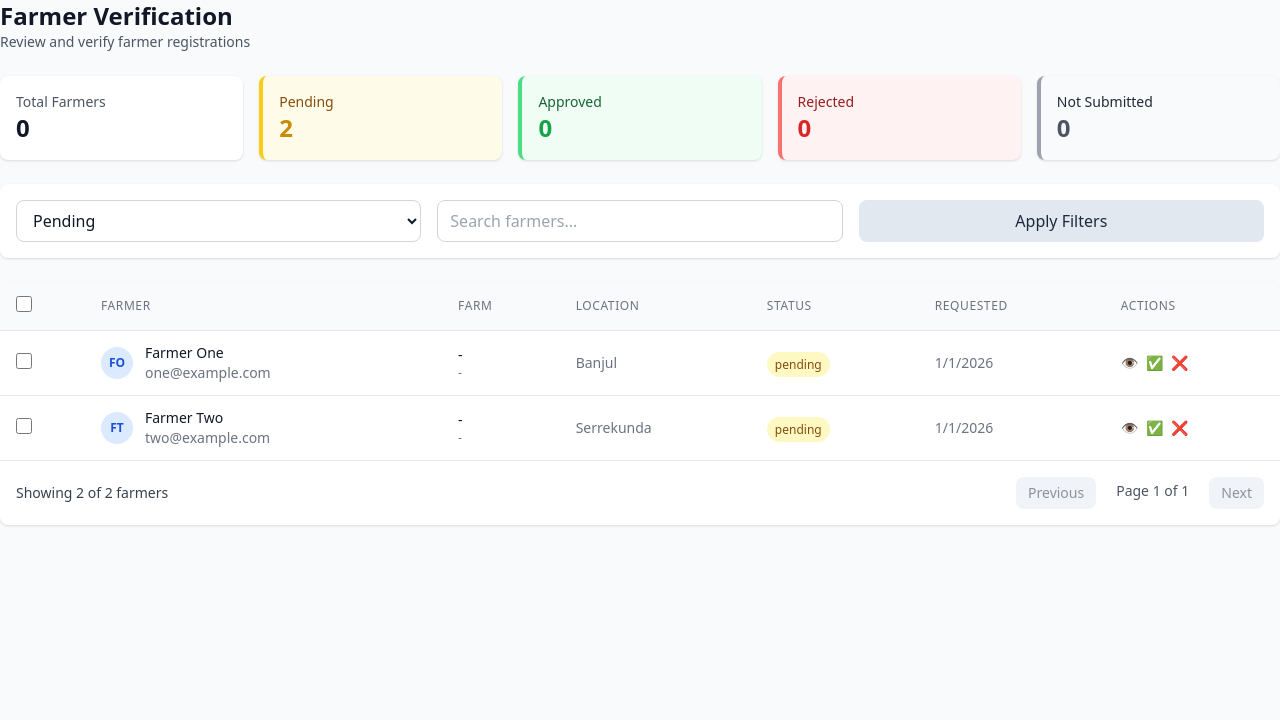
FarmerVerification bulk reject › reports partial failure instead of a false blanket success or a silent abort
Expected: the text "Farmer One" is shown, x1=145 y1=343 x2=224 y2=362
Click the checkbox next to "FO" at (24, 361), box x1=16 y1=353 x2=32 y2=369
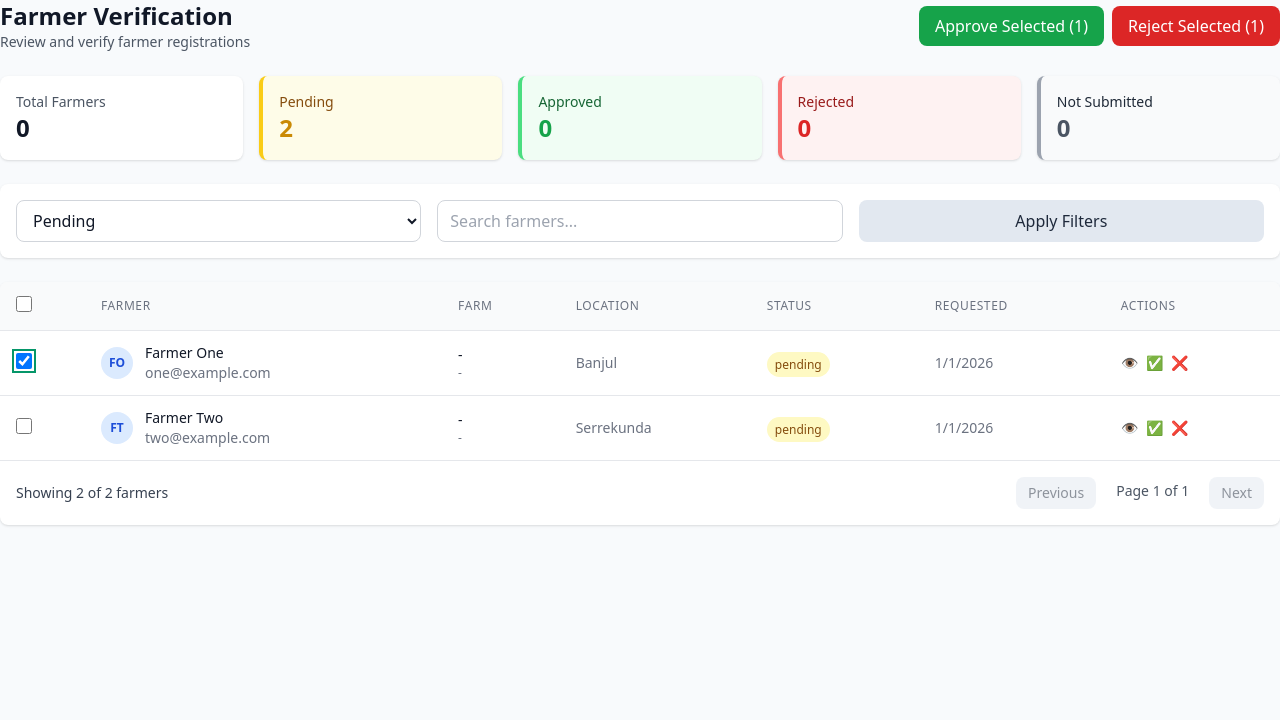
Click the checkbox next to "FT" at (24, 426), box x1=16 y1=418 x2=32 y2=434
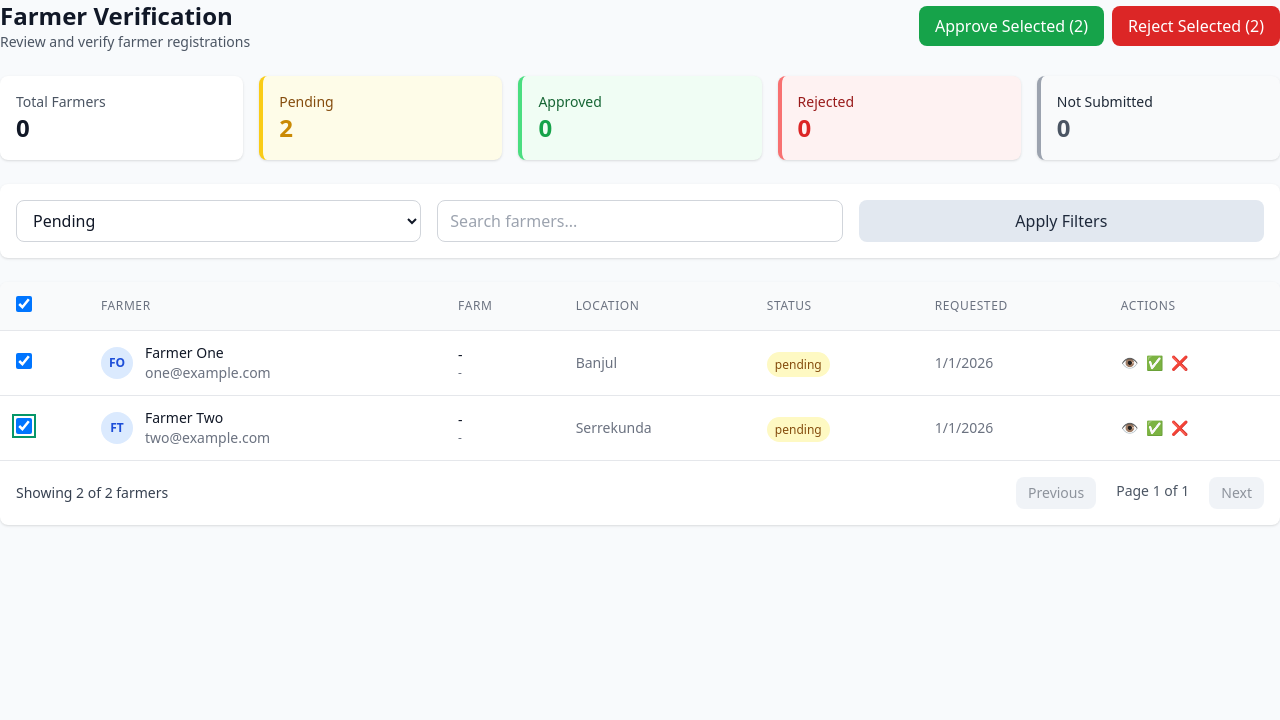
Click the button "Reject Selected (2)" at (1196, 26), box x1=1112 y1=6 x2=1279 y2=46
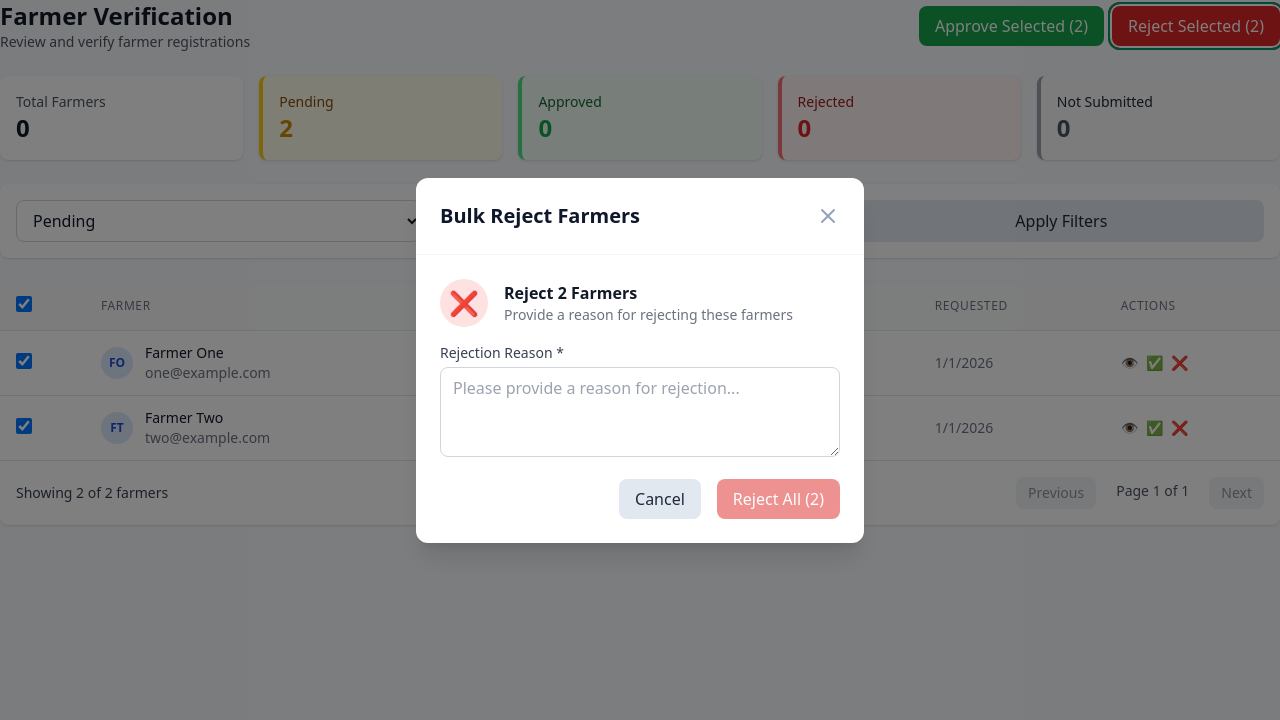
Type "Incomplete documents" into the text box with placeholder "Please provide a reason for rejection..." at (640, 412), box x1=440 y1=366 x2=840 y2=456
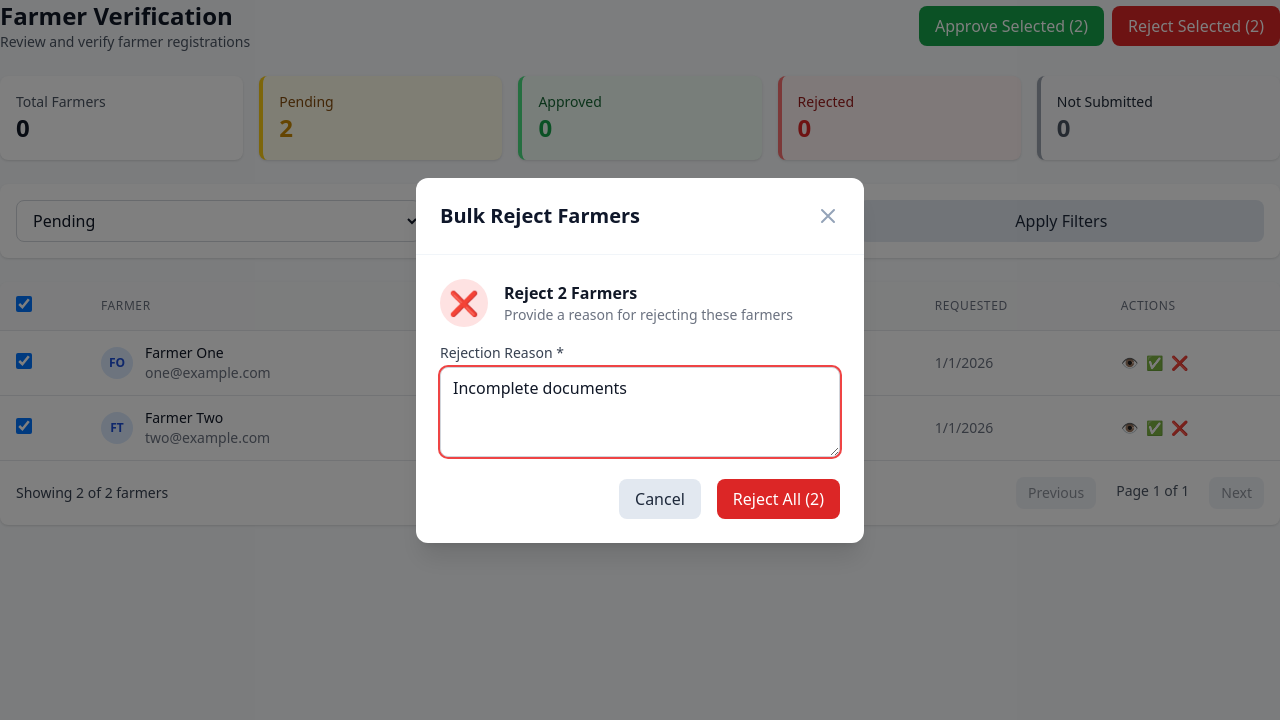
Click the button "Reject All (2)" at (778, 498), box x1=717 y1=478 x2=840 y2=518
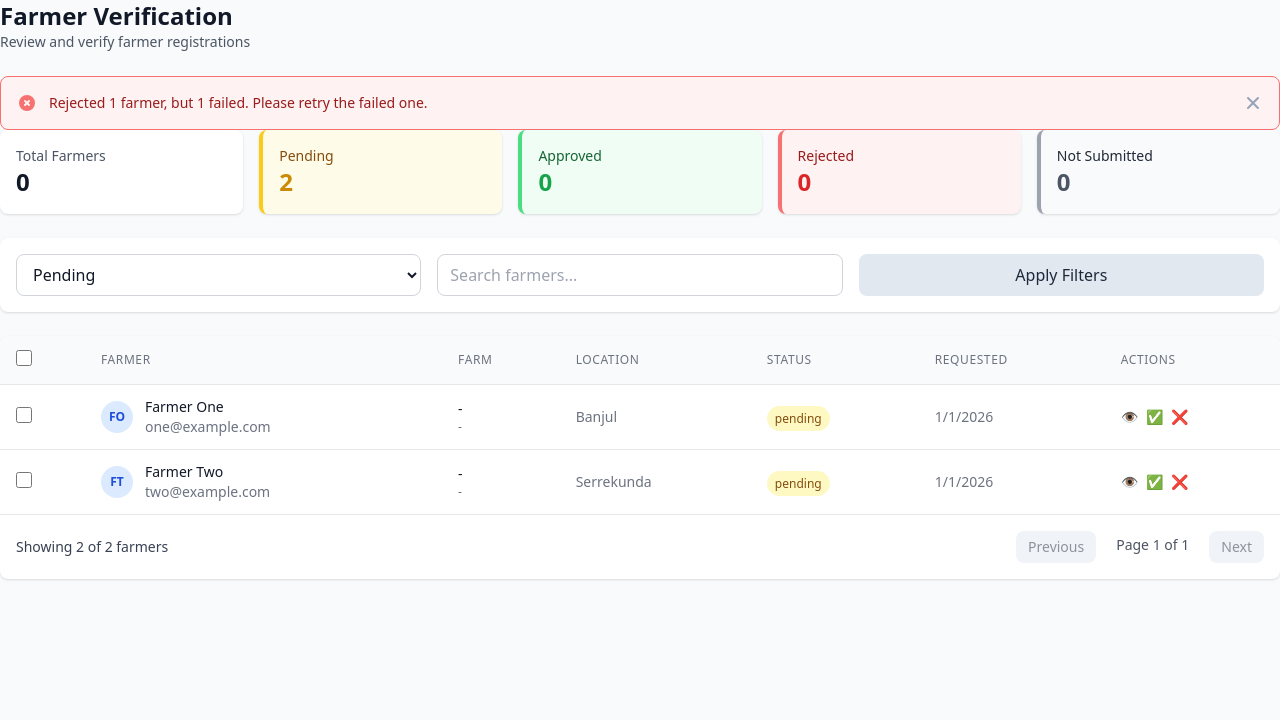
Expected: the text "Rejected 1 farmer, but 1 failed" is shown, x1=49 y1=93 x2=428 y2=112
